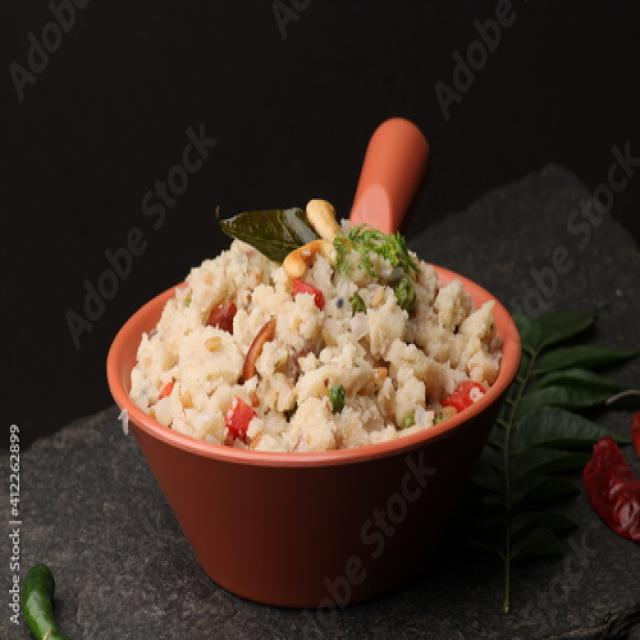UPMA: (131, 208, 499, 450)
